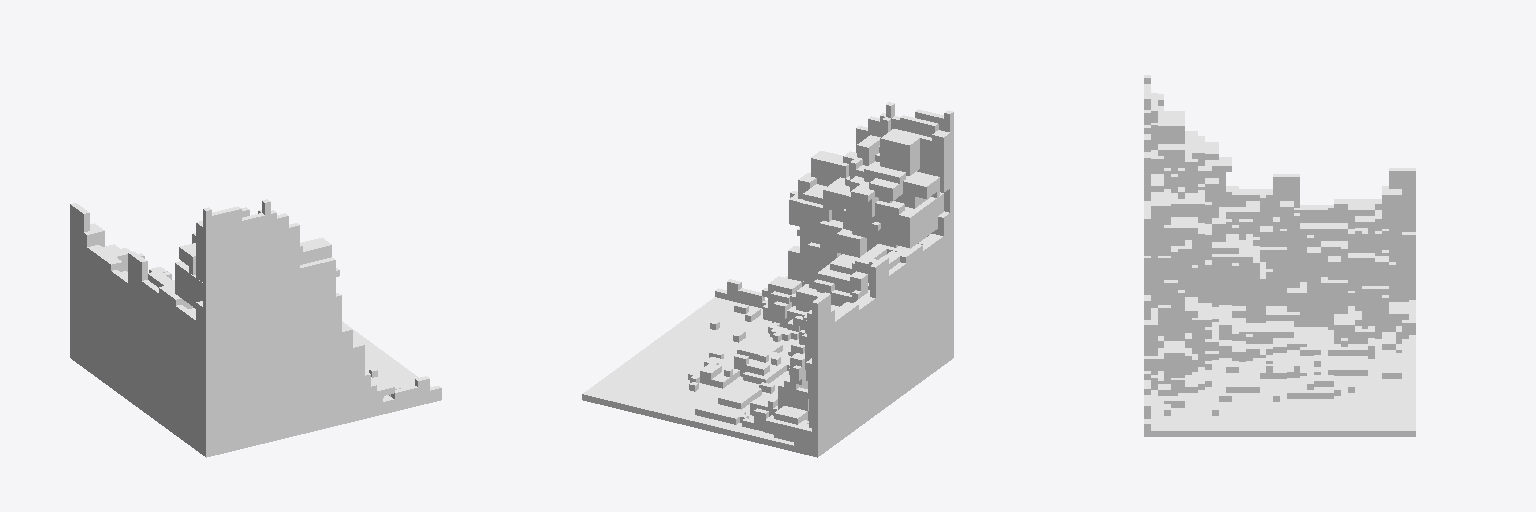
The model's file is floor5.obj.
3 views of the same model, side by side, from view 1: azimuth 30°, elevation 25°; view 2: azimuth 150°, elevation 25°; view 3: azimuth 270°, elevation 25° (orthographic).
Parts seen in each view (by area): view 1: floor5; view 2: floor5; view 3: floor5.
Part boxes in pixels (bbox=[...]): floor5: bbox=[70, 199, 441, 457]; floor5: bbox=[582, 102, 953, 457]; floor5: bbox=[1144, 75, 1415, 436].
Bounding box in the file's own units: 40 × 40 × 40.